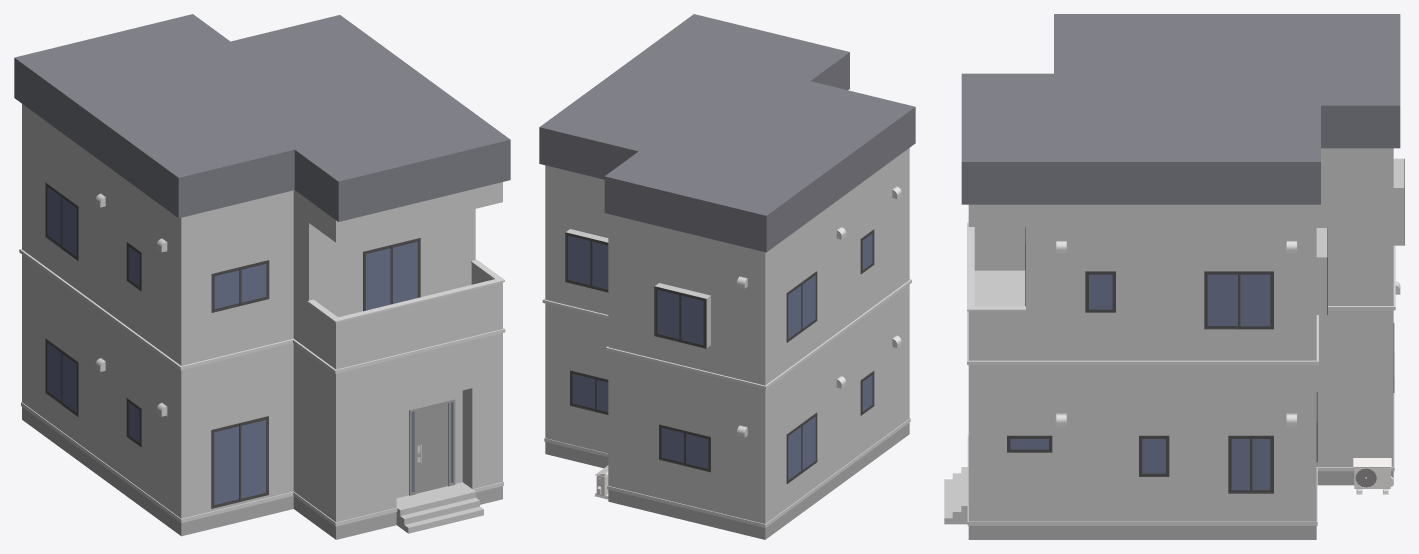
The model's file is MobHouse7.fbx.
3 views of the same model, side by side, from view 1: azimuth 30°, elevation 25°; view 2: azimuth 150°, elevation 25°; view 3: azimuth 270°, elevation 25° (orthographic). The views are drawn at different scales.
Visible parts, largest first — view 1: Flat_half_house01.007; view 2: Flat_half_house01.007; view 3: Flat_half_house01.007.
Part boxes in pixels (bbox=[...]): Flat_half_house01.007: bbox=[14, 14, 510, 539]; Flat_half_house01.007: bbox=[539, 14, 915, 539]; Flat_half_house01.007: bbox=[944, 14, 1404, 539].
Bounding box in the file's own units: 6.6 × 7.84 × 8.61.
